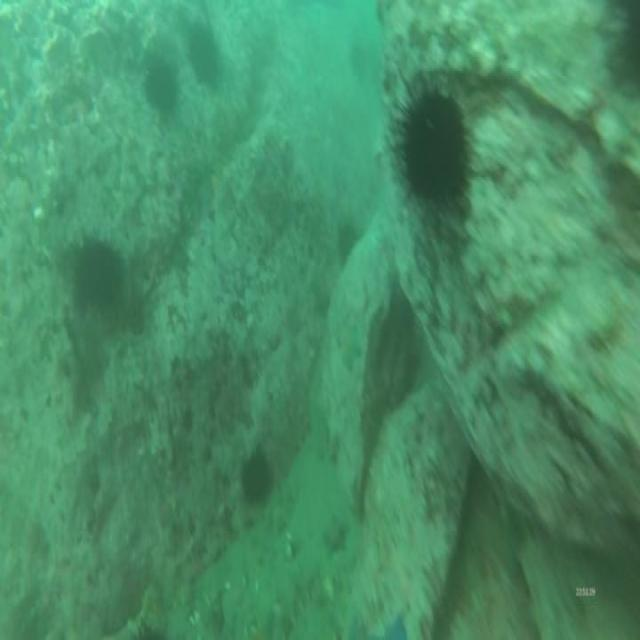echinus: (397, 100, 467, 199), (70, 239, 120, 297), (186, 26, 221, 88), (144, 59, 175, 109), (242, 457, 268, 498)
starfish: (320, 514, 348, 556), (340, 330, 359, 368)
